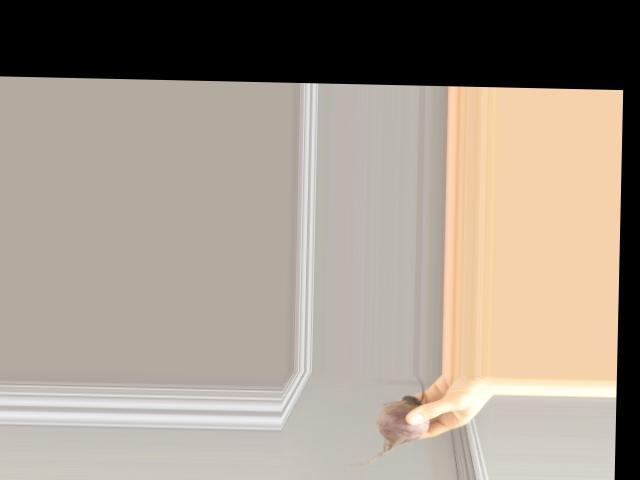beet: (348, 371, 429, 467)
